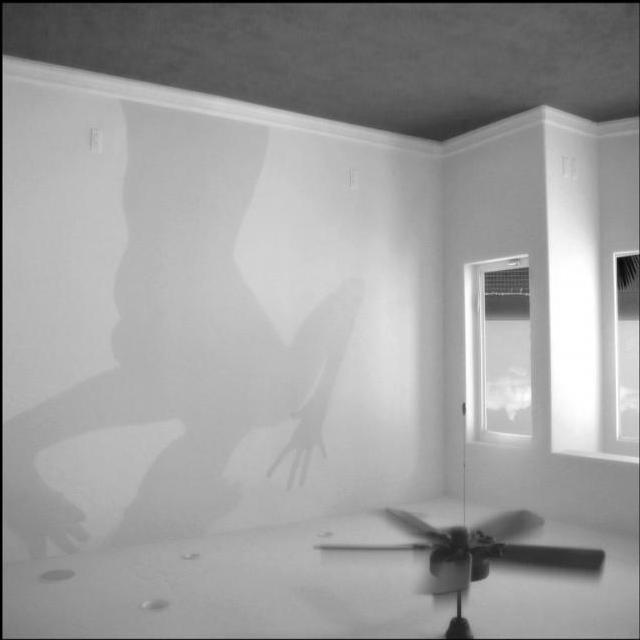fan: (311, 506, 604, 639)
